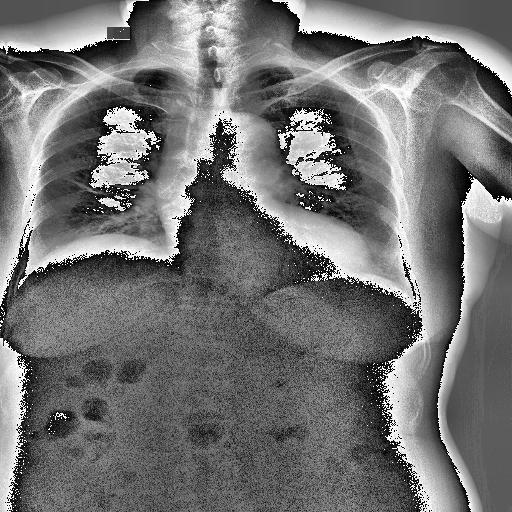0- Aortic enlargement: (156, 115, 277, 184), (208, 112, 282, 177), (215, 113, 282, 163)
13- Pulmonary fibrosis: (51, 172, 110, 195), (62, 172, 110, 198), (68, 174, 102, 196)
3- Cardiomegaly: (154, 192, 374, 272), (160, 218, 372, 275), (166, 226, 370, 282)
